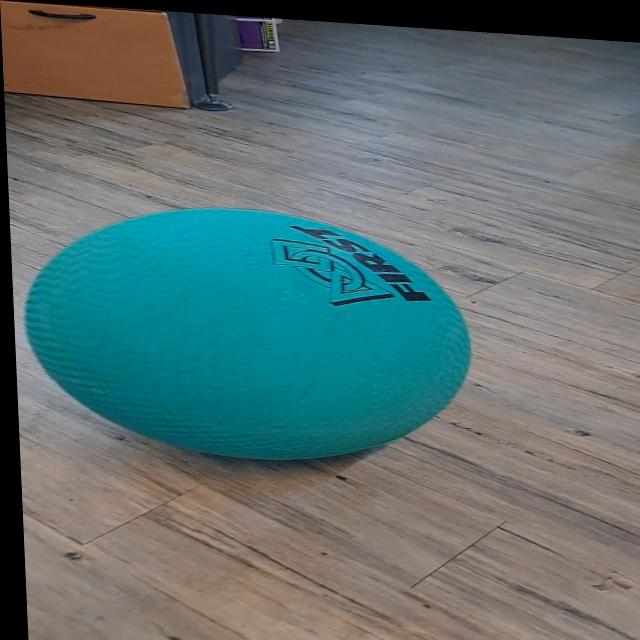ALGAE: (17, 192, 479, 476)
